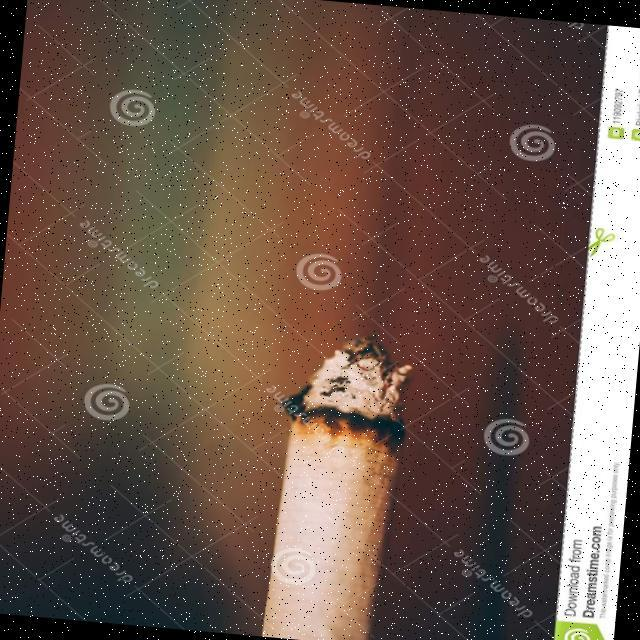cigarette: (263, 334, 421, 640)
